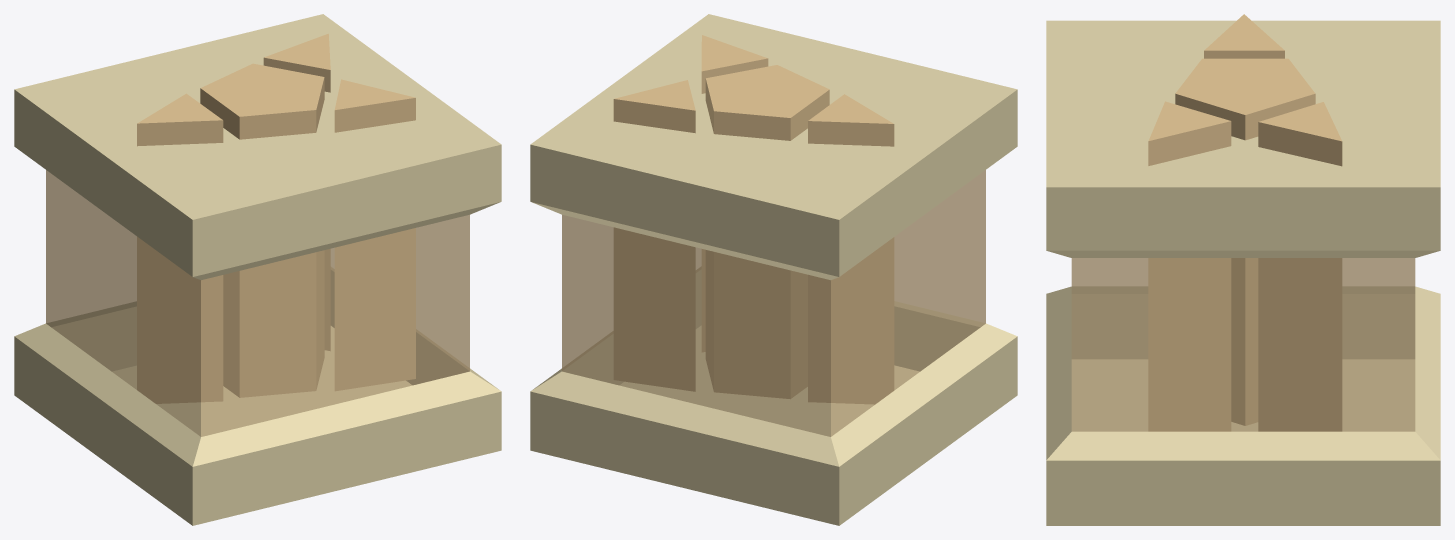
File: gold-left.fbx
3 renders of one model, left to right at view 1: azimuth 30°, elevation 25°; view 2: azimuth 150°, elevation 25°; view 3: azimuth 270°, elevation 25°, orthographic. The views are drawn at different scales.
Parts seen in each view (by area): view 1: polySurface58; view 2: polySurface58; view 3: polySurface58.
Boxes of the visible parts, left/top/right/bottom form: polySurface58: left=14, top=14, right=501, bottom=525; polySurface58: left=530, top=14, right=1017, bottom=525; polySurface58: left=1046, top=14, right=1440, bottom=525.
Size of the model in its own units: 2 by 2.03 by 2.
